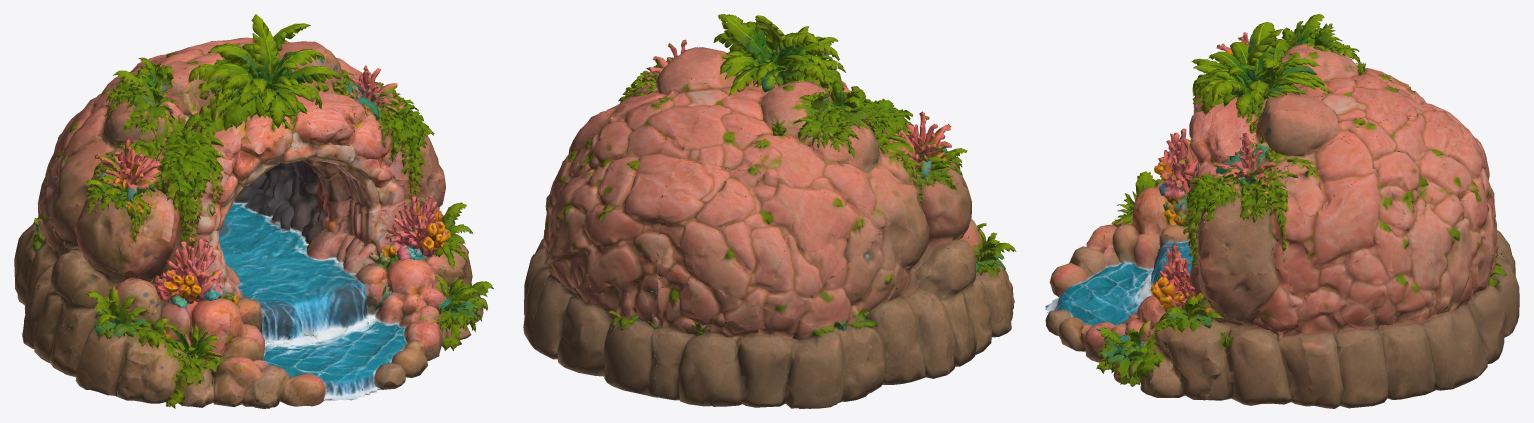
File: waterfall_arch.glb
3 views of the same model, side by side, from view 1: azimuth 30°, elevation 25°; view 2: azimuth 150°, elevation 25°; view 3: azimuth 270°, elevation 25° (orthographic).
Visible parts, largest first — view 1: waterfall_arch; view 2: waterfall_arch; view 3: waterfall_arch.
Boxes of the visible parts, x1,y1,x2,y2 form: waterfall_arch: (14,14,493,408); waterfall_arch: (523,14,1016,408); waterfall_arch: (1045,14,1519,408).
Size of the model in its own units: 1.86 by 1.29 by 1.9.
Materials: 1 (1 with a texture image).
